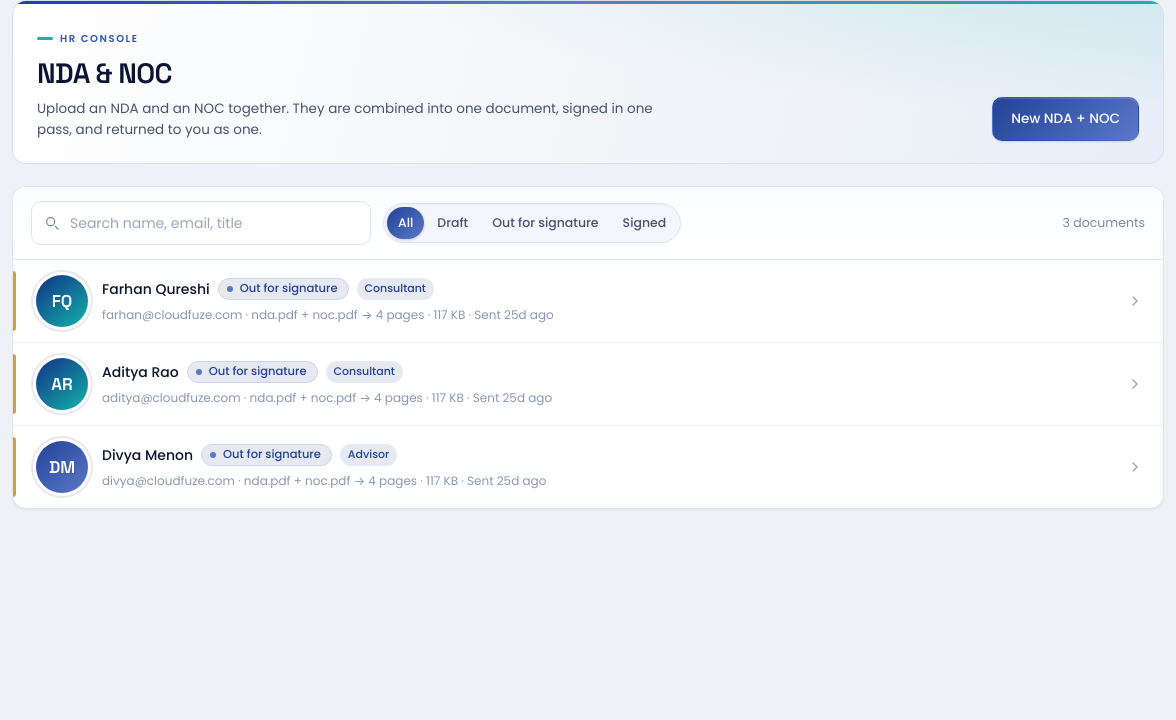
Scenario: NocPage search › says so on a miss and offers a way back
Check: the text "Aditya Rao" is shown, box [102, 361, 179, 383]
Step 1. Type "Zebediah" into the field named "Search NDA and NOC documents" → coordinates (201, 223), box [31, 201, 371, 245]
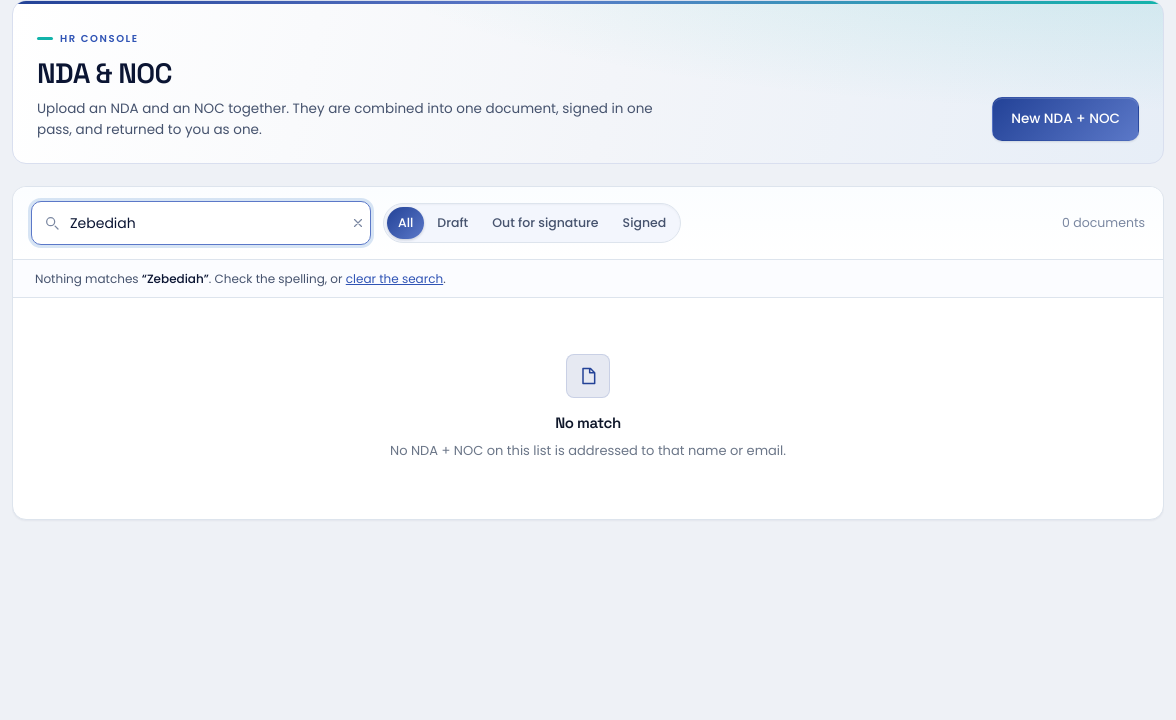
Check: the heading "No match" is shown, box [555, 414, 621, 433]
Step 2. Click the button "clear the search" → coordinates (394, 279), box [346, 269, 443, 288]
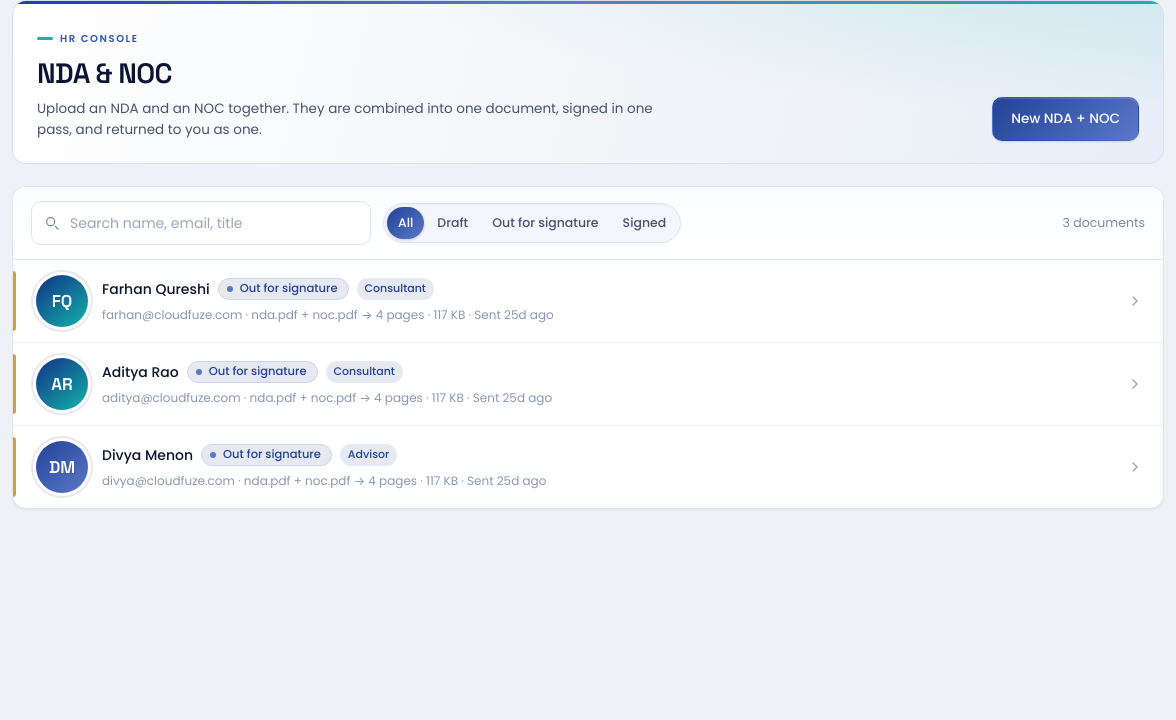
Check: the text "Aditya Rao" is shown, box [102, 361, 179, 383]
